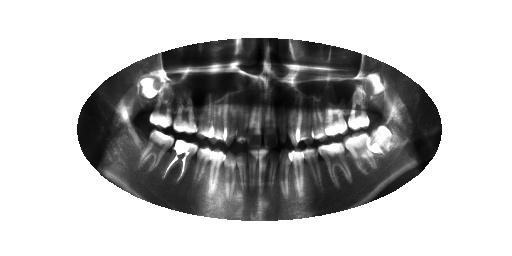i10healthy: (233, 145, 252, 197)
i11healthy: (219, 144, 241, 204)
i12healthy: (204, 144, 227, 205)
i13healthy: (189, 141, 215, 199)
i14healthy: (162, 132, 199, 189)
i15decay: (137, 124, 176, 183)
i16loss: (125, 119, 154, 162)
i1decay: (362, 122, 396, 161)
i2healthy: (343, 132, 381, 177)
i3healthy: (316, 138, 356, 189)
i4healthy: (300, 143, 326, 193)
i5healthy: (288, 145, 308, 198)
i6healthy: (276, 141, 294, 201)
i7decay: (265, 145, 283, 200)
i8decay: (255, 145, 270, 195)
i9decay: (241, 141, 261, 198)
u10chipped: (232, 97, 252, 147)
u11decay: (221, 93, 240, 147)
u12healthy: (207, 92, 231, 151)
u13healthy: (194, 91, 217, 145)
u14healthy: (170, 87, 200, 142)
u15healthy: (146, 83, 177, 131)
u16healthy: (135, 71, 169, 104)
u1healthy: (360, 62, 392, 103)
u2healthy: (345, 83, 374, 133)
u3healthy: (320, 92, 347, 138), (307, 88, 329, 144)
u5healthy: (295, 96, 316, 146)
u6healthy: (283, 95, 304, 148)
u7decay: (275, 97, 292, 148)
u8decay: (263, 89, 279, 153)
u9decay: (244, 97, 265, 149)
